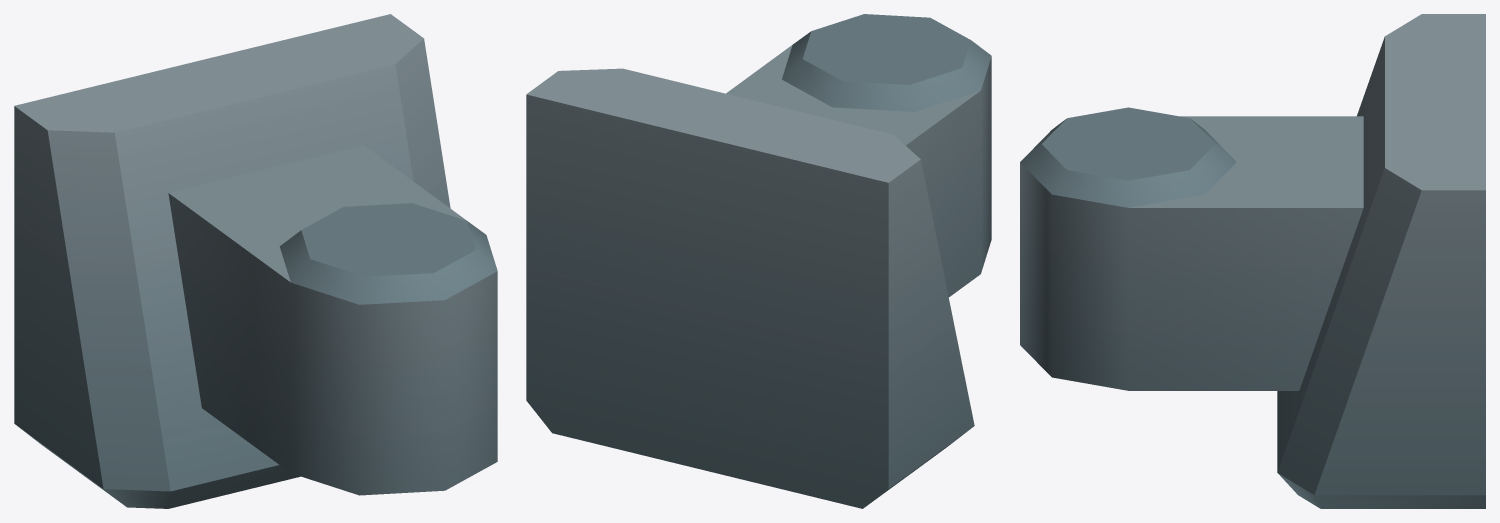
File: Security_cam_001.fbx
3 views of the same model, side by side, from view 1: azimuth 30°, elevation 25°; view 2: azimuth 150°, elevation 25°; view 3: azimuth 270°, elevation 25° (orthographic). The views are drawn at different scales.
Visible parts, largest first — view 1: Security_cam_001; view 2: Security_cam_001; view 3: Security_cam_001.
Part boxes in pixels (x1,y1,x2,y2): Security_cam_001: (14,14,497,508); Security_cam_001: (526,14,991,508); Security_cam_001: (1020,14,1485,508).
Bounding box in the file's own units: 23.56 × 26.31 × 20.65.
